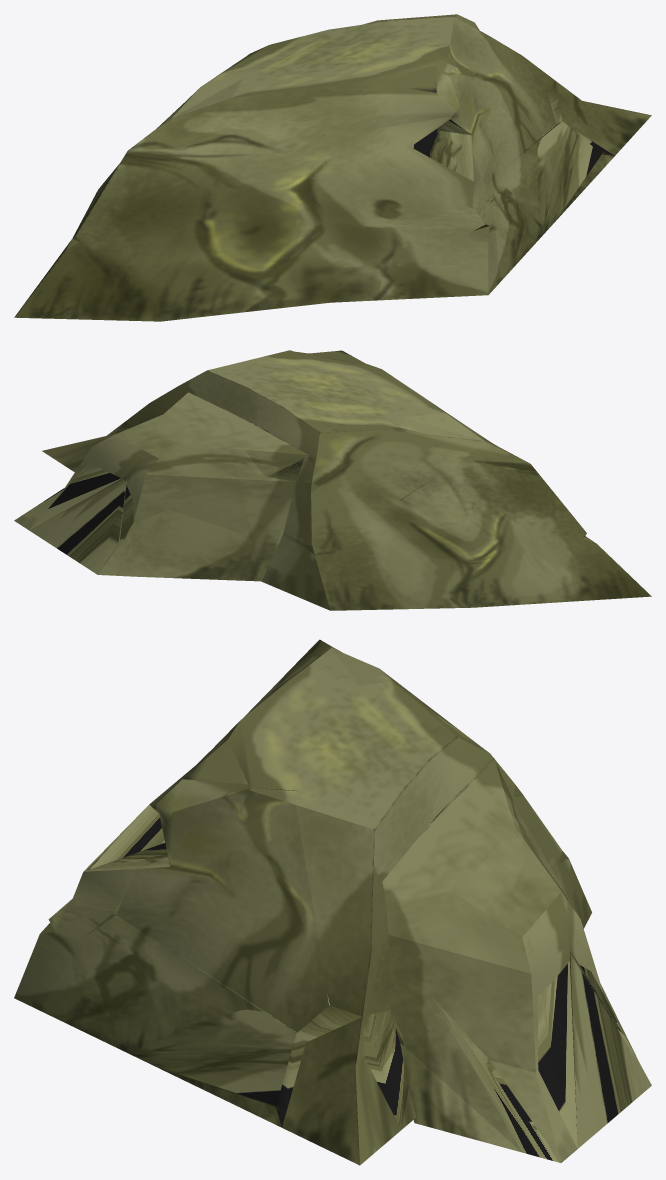
File: BrokeGooRock.FBX
3 views of the same model, one above another, from view 1: azimuth 30°, elevation 25°; view 2: azimuth 150°, elevation 25°; view 3: azimuth 270°, elevation 25° (orthographic). The views are drawn at different scales.
Parts seen in each view (by area): view 1: Box014_Part_12, Box014_Part_10, Box014_Part_7, Box014_Part_14, Box014_Part_2, Box014_Part_6, Box014_Part_8, Box014_Part_1, Box014_Part_3, Box014_Part_4; view 2: Box014_Part_10, Box014_Part_5, Box014_Part_15, Box014_Part_14, Box014_Part_1, Box014_Part_2, Box014_Part_11, Box014_Part_9, Box014_Part_3; view 3: Box014_Part_1, Box014_Part_8, Box014_Part_9, Box014_Part_6, Box014_Part_2, Box014_Part_3, Box014_Part_12, Box014_Part_14, Box014_Part_11, Box014_Part_5, Box014_Part_15, Box014_Part_4.
Boxes of the visible parts, bbox=[...] form: Box014_Part_12: bbox=[251, 116, 500, 300]; Box014_Part_10: bbox=[14, 119, 209, 320]; Box014_Part_7: bbox=[142, 176, 365, 321]; Box014_Part_14: bbox=[167, 48, 324, 183]; Box014_Part_2: bbox=[247, 23, 459, 137]; Box014_Part_6: bbox=[485, 121, 601, 281]; Box014_Part_8: bbox=[431, 43, 556, 185]; Box014_Part_1: bbox=[361, 14, 554, 94]; Box014_Part_3: bbox=[547, 80, 651, 155]; Box014_Part_4: bbox=[557, 153, 614, 219]; Box014_Part_10: bbox=[378, 442, 651, 609]; Box014_Part_5: bbox=[235, 447, 400, 610]; Box014_Part_15: bbox=[115, 457, 260, 581]; Box014_Part_14: bbox=[322, 379, 490, 500]; Box014_Part_1: bbox=[111, 357, 275, 464]; Box014_Part_2: bbox=[247, 350, 395, 461]; Box014_Part_11: bbox=[29, 476, 127, 575]; Box014_Part_9: bbox=[14, 436, 143, 530]; Box014_Part_3: bbox=[42, 421, 144, 472]; Box014_Part_1: bbox=[295, 779, 559, 1016]; Box014_Part_8: bbox=[116, 788, 329, 1032]; Box014_Part_9: bbox=[401, 911, 577, 1162]; Box014_Part_6: bbox=[40, 915, 296, 1107]; Box014_Part_2: bbox=[155, 707, 504, 824]; Box014_Part_3: bbox=[276, 1005, 404, 1165]; Box014_Part_12: bbox=[14, 766, 194, 1010]; Box014_Part_14: bbox=[244, 647, 483, 748]; Box014_Part_11: bbox=[570, 951, 651, 1148]; Box014_Part_5: bbox=[494, 759, 591, 928]; Box014_Part_15: bbox=[529, 836, 638, 1060]; Box014_Part_4: bbox=[159, 1068, 281, 1127].
Size of the model in its own units: 26.75 by 6.55 by 15.62.
